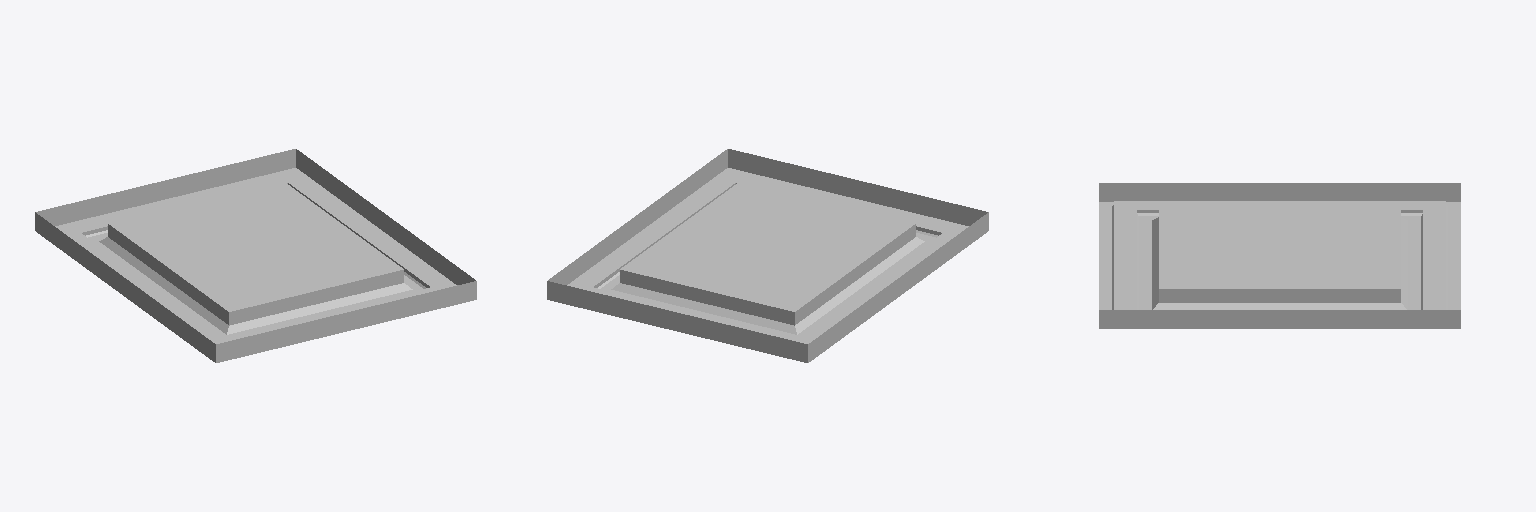
File: Portrait.obj
3 renders of one model, left to right at view 1: azimuth 30°, elevation 25°; view 2: azimuth 150°, elevation 25°; view 3: azimuth 270°, elevation 25°, orthographic.
Visible parts, largest first — view 1: Portrait; view 2: Portrait; view 3: Portrait.
Part boxes in pixels (x1,y1,x2,y2): Portrait: (35, 149, 476, 362); Portrait: (547, 149, 988, 362); Portrait: (1099, 183, 1460, 328).
Bounding box in the file's own units: 8.75 × 0.6125 × 10.5.